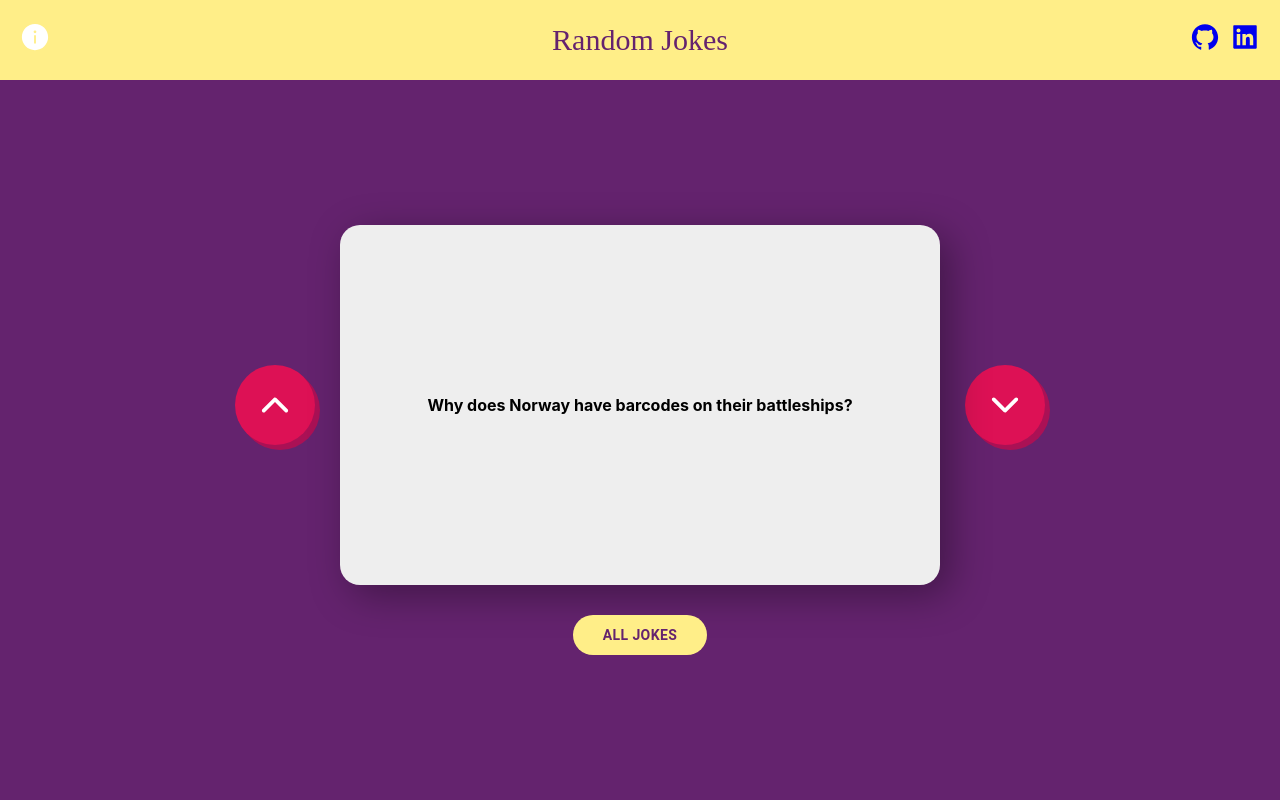
it: Clicking info icon opens about-website card
This screenshot has width=1280, height=800.
Click the button with test id "info-icon".
click(35, 40)  # box [20,22,50,58]
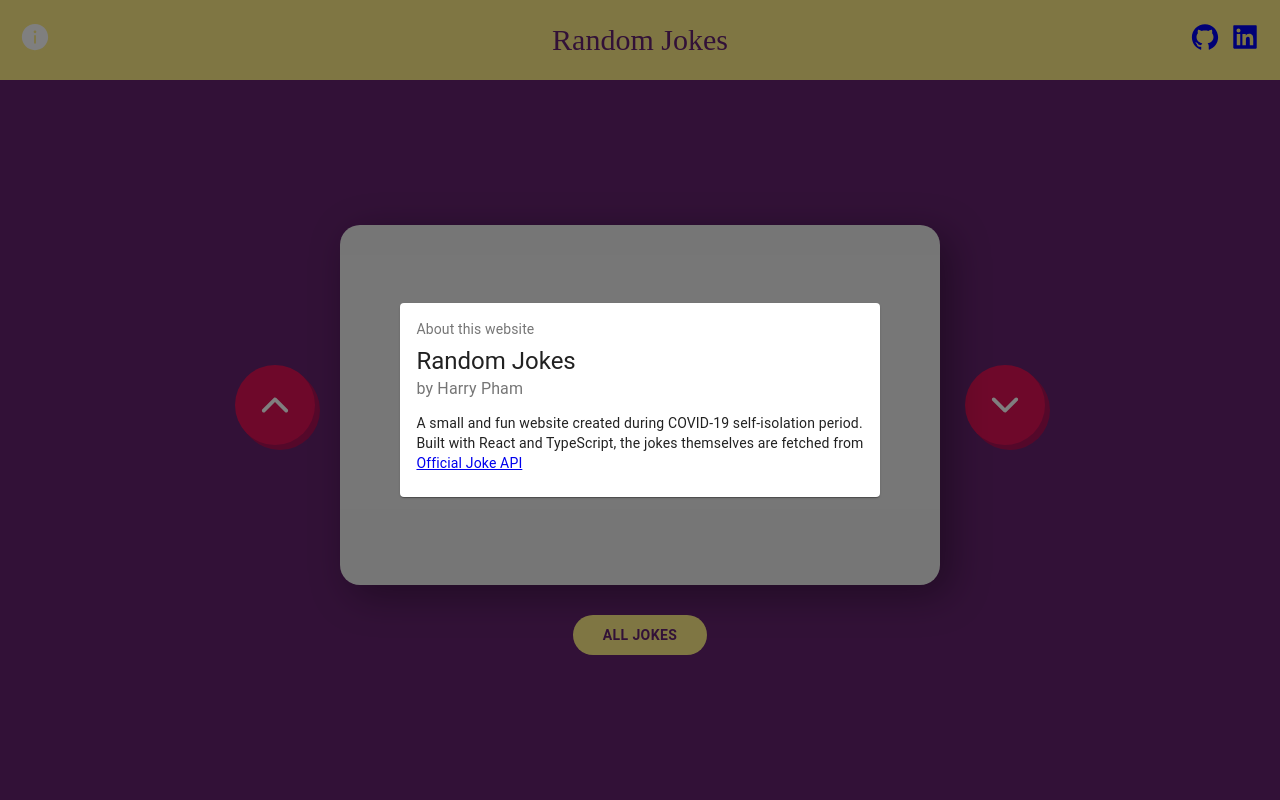
Expected: the element with test id "about-card" is shown, [400,303,880,497]
